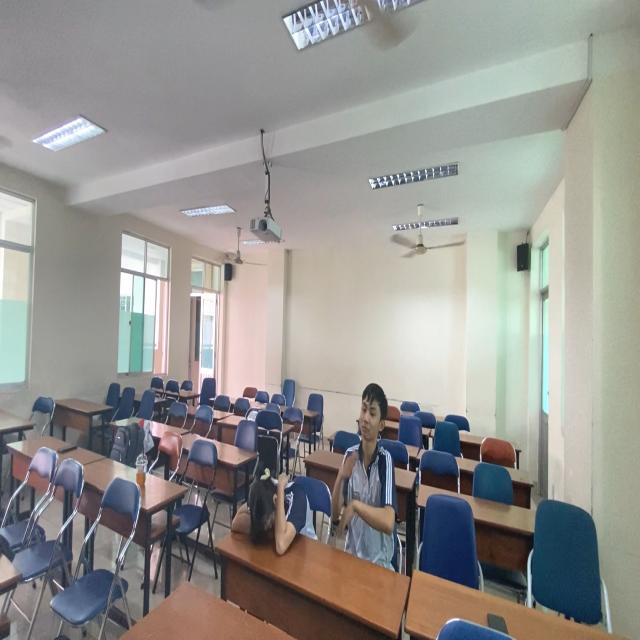sleep: (228, 465, 312, 550)
